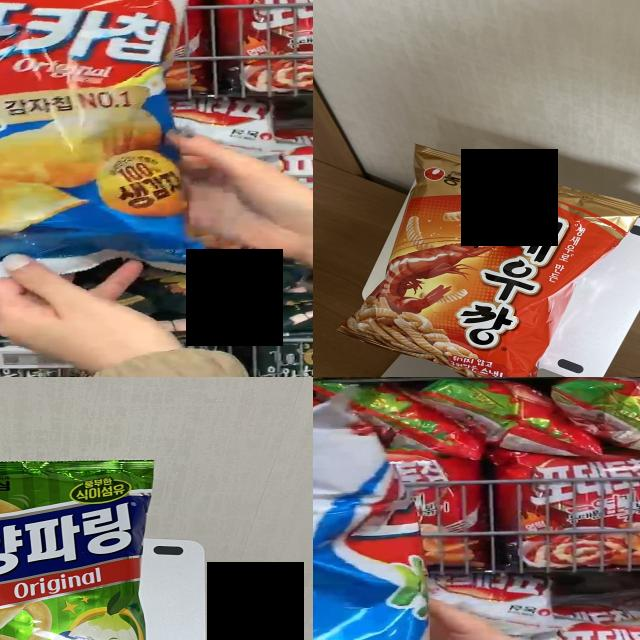onionRing: (0, 462, 160, 640)
pokaChip: (0, 0, 218, 301), (313, 385, 427, 640)
shrimpGGang: (407, 169, 569, 377)
